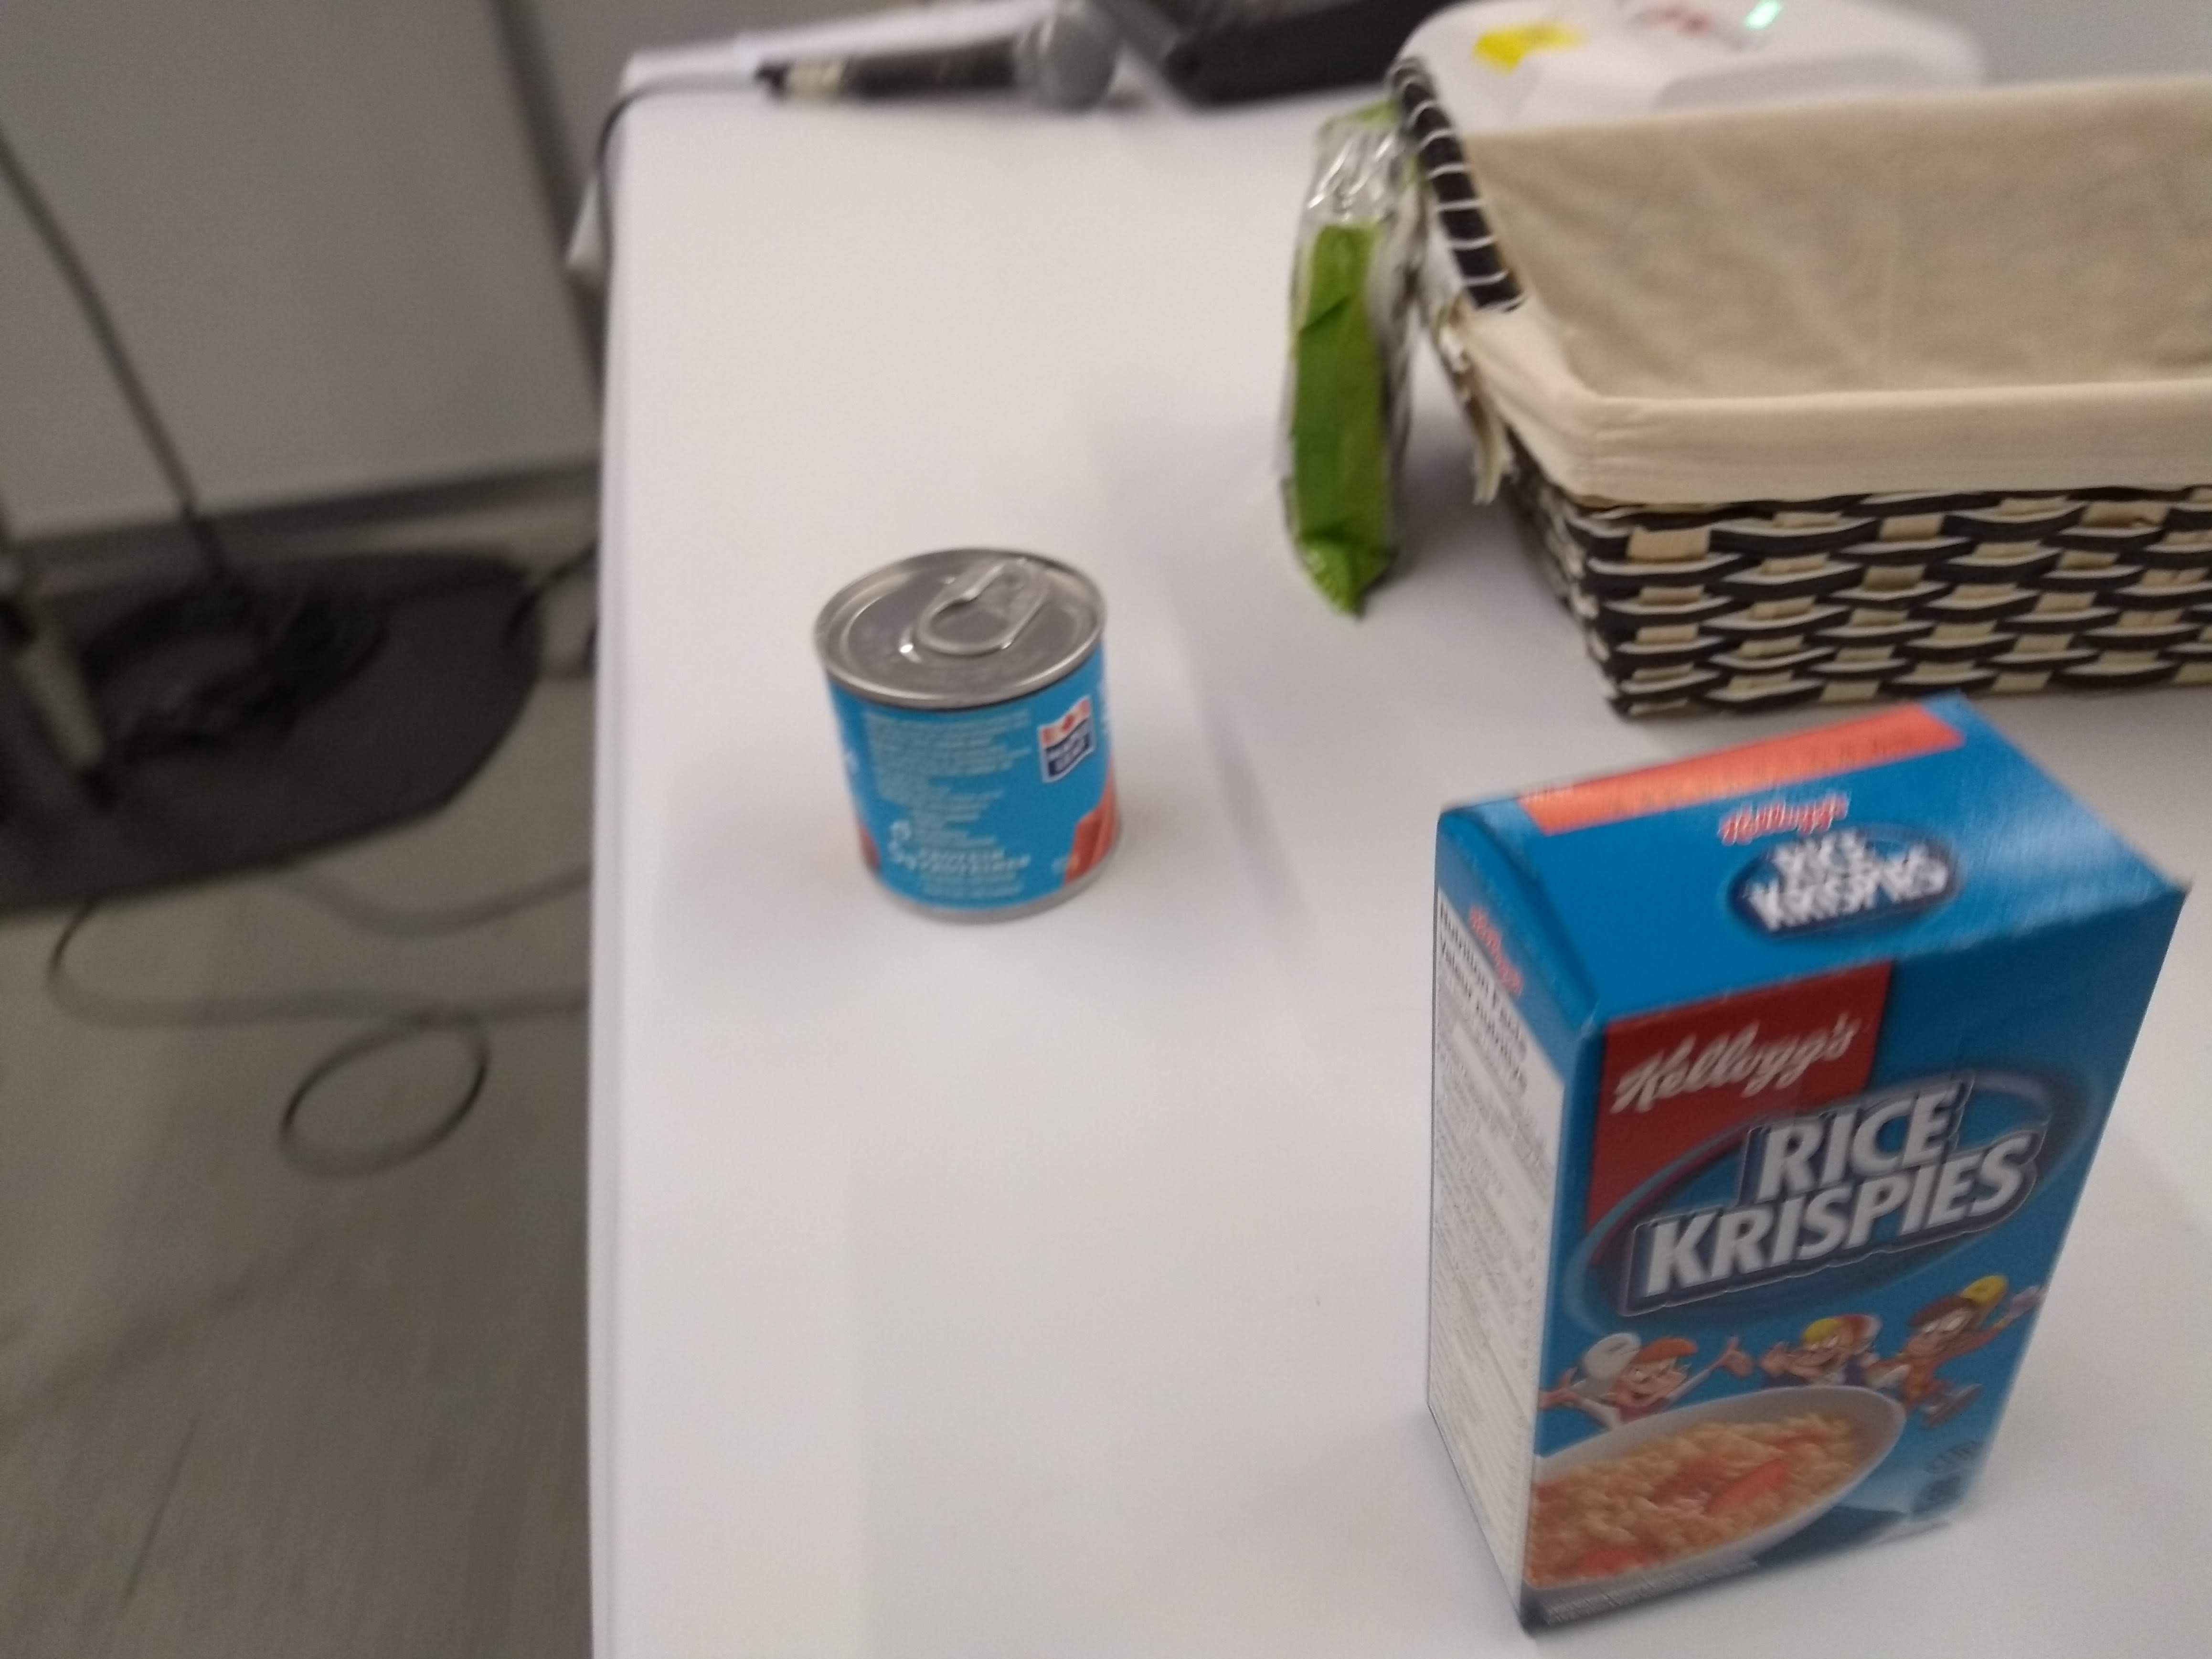cereal: (1386, 673, 2198, 1659)
sausages: (808, 525, 1139, 946)
